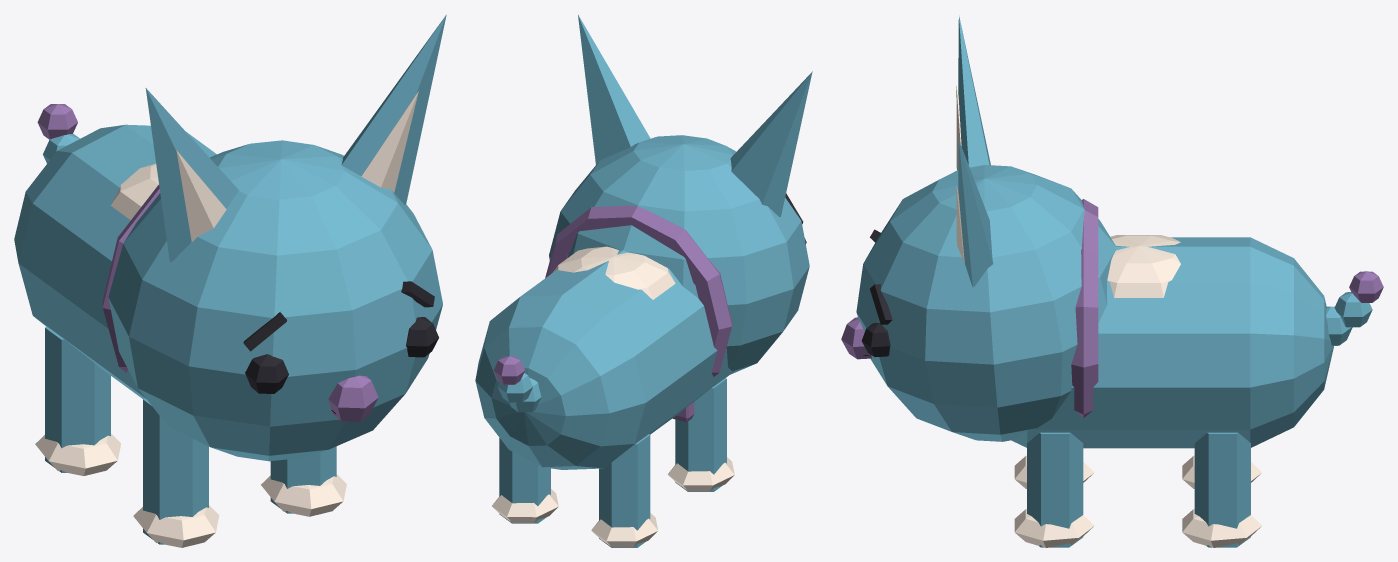
The model's file is bean-meadow-1.glb.
3 views of the same model, side by side, from view 1: azimuth 30°, elevation 25°; view 2: azimuth 150°, elevation 25°; view 3: azimuth 270°, elevation 25° (orthographic). The views are drawn at different scales.
Visible parts, largest first — view 1: bean-meadow-1; view 2: bean-meadow-1; view 3: bean-meadow-1.
Part boxes in pixels (x1=…): bean-meadow-1: x1=14, y1=14, x2=446, y2=547; bean-meadow-1: x1=475, y1=15, x2=812, y2=547; bean-meadow-1: x1=841, y1=15, x2=1383, y2=547.
Bounding box in the file's own units: 0.4654 × 0.7493 × 0.8494.
